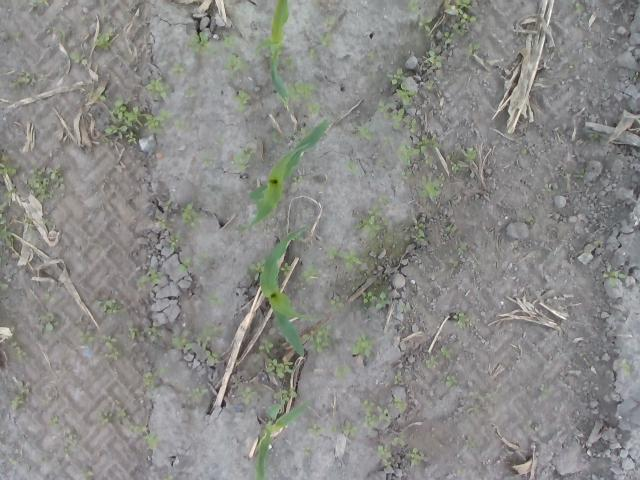Maize: (236, 118, 331, 230), (260, 224, 320, 357), (255, 397, 312, 480), (250, 0, 290, 107)
Weeds: (100, 98, 144, 145), (28, 164, 66, 203), (354, 204, 388, 239), (388, 68, 418, 106), (276, 80, 316, 107), (448, 148, 478, 180), (325, 246, 362, 270), (378, 102, 408, 130), (302, 324, 332, 352), (186, 32, 218, 55), (466, 390, 496, 414), (223, 54, 250, 80), (418, 173, 446, 198), (230, 146, 256, 172), (350, 332, 376, 358), (144, 110, 172, 134), (394, 141, 419, 167), (196, 323, 221, 349), (135, 268, 164, 290), (360, 399, 378, 433), (265, 357, 294, 378), (362, 290, 392, 310), (145, 77, 170, 100), (101, 333, 123, 359), (180, 202, 202, 228), (453, 12, 476, 36), (12, 378, 30, 408), (10, 70, 38, 88), (109, 396, 129, 421), (94, 298, 124, 314), (94, 27, 114, 51), (163, 57, 185, 78), (602, 267, 627, 285), (0, 154, 20, 176), (172, 330, 192, 350), (232, 90, 252, 110), (35, 312, 55, 332), (9, 339, 27, 361), (418, 14, 434, 38), (274, 388, 298, 404), (300, 264, 320, 283), (410, 216, 425, 241), (248, 260, 266, 280), (418, 135, 440, 151), (388, 396, 408, 413), (66, 51, 88, 66), (406, 448, 424, 466), (450, 0, 472, 14), (144, 433, 161, 451), (334, 364, 351, 382), (466, 42, 482, 60), (220, 34, 238, 50), (240, 386, 256, 404), (452, 312, 472, 326), (88, 85, 105, 101), (356, 125, 374, 140), (0, 227, 14, 246), (145, 326, 161, 342), (77, 330, 95, 344), (168, 234, 182, 252), (97, 406, 111, 424), (188, 387, 209, 399), (142, 371, 155, 390), (199, 152, 214, 168), (376, 406, 391, 422), (258, 338, 274, 353), (318, 32, 335, 46), (307, 424, 325, 437), (330, 297, 345, 312), (428, 51, 442, 67), (342, 422, 358, 436), (376, 444, 392, 458), (128, 424, 148, 434), (306, 102, 320, 116), (196, 248, 209, 263), (284, 56, 296, 72), (436, 346, 452, 358), (173, 118, 185, 134), (205, 295, 222, 306), (445, 374, 458, 388), (205, 350, 219, 363), (620, 358, 630, 376), (469, 258, 484, 270), (392, 434, 407, 446), (289, 230, 305, 241), (28, 0, 50, 8), (128, 326, 140, 340), (178, 258, 192, 270), (346, 160, 358, 174), (406, 0, 420, 12), (0, 200, 7, 224), (280, 262, 292, 275), (426, 355, 438, 368), (441, 32, 454, 44), (48, 417, 62, 428), (397, 170, 412, 180), (156, 215, 166, 229), (2, 188, 16, 198), (270, 130, 280, 144), (40, 218, 54, 227), (382, 136, 394, 146), (323, 15, 335, 25), (572, 3, 584, 13), (22, 212, 32, 224), (184, 88, 196, 98), (154, 366, 166, 376), (307, 48, 318, 58), (300, 126, 310, 137), (382, 458, 392, 469), (542, 183, 554, 192), (564, 61, 576, 70), (449, 256, 458, 268), (163, 198, 172, 210), (393, 372, 402, 384), (398, 302, 408, 312), (216, 136, 226, 146), (426, 80, 436, 90), (368, 50, 377, 61), (46, 25, 57, 34), (410, 118, 417, 132), (588, 132, 600, 140), (540, 386, 548, 397), (458, 244, 466, 255), (10, 31, 22, 38), (444, 227, 456, 234), (0, 281, 9, 290), (294, 176, 302, 186), (578, 168, 586, 178), (464, 438, 474, 446), (378, 194, 388, 202), (87, 243, 103, 248), (44, 292, 52, 302), (254, 354, 262, 363), (294, 134, 302, 143), (377, 156, 385, 164), (302, 448, 310, 456), (528, 216, 534, 226), (163, 474, 173, 480), (584, 43, 592, 50), (521, 149, 529, 156), (425, 156, 433, 163), (594, 240, 602, 246), (0, 256, 3, 264)
